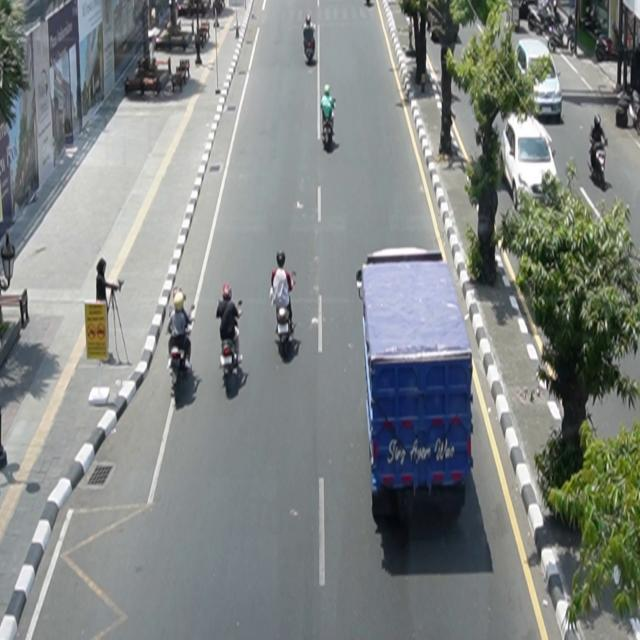bus: (356, 247, 475, 523)
car: (501, 110, 559, 213), (514, 39, 563, 122)
